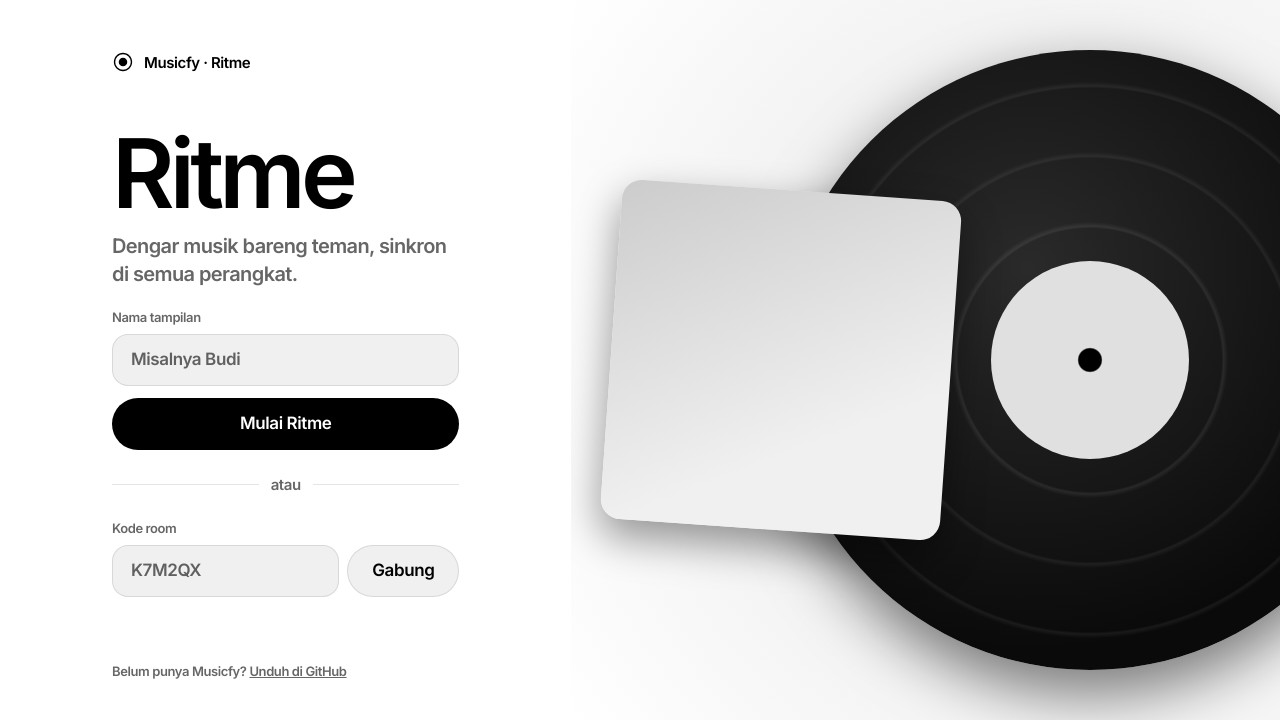
Test: App connection states › shows the connecting screen without a code while creating
This screenshot has width=1280, height=720.
Type "Budi" into the field labelled "Nama tampilan" at (286, 360), box 112,334 -> 459,386
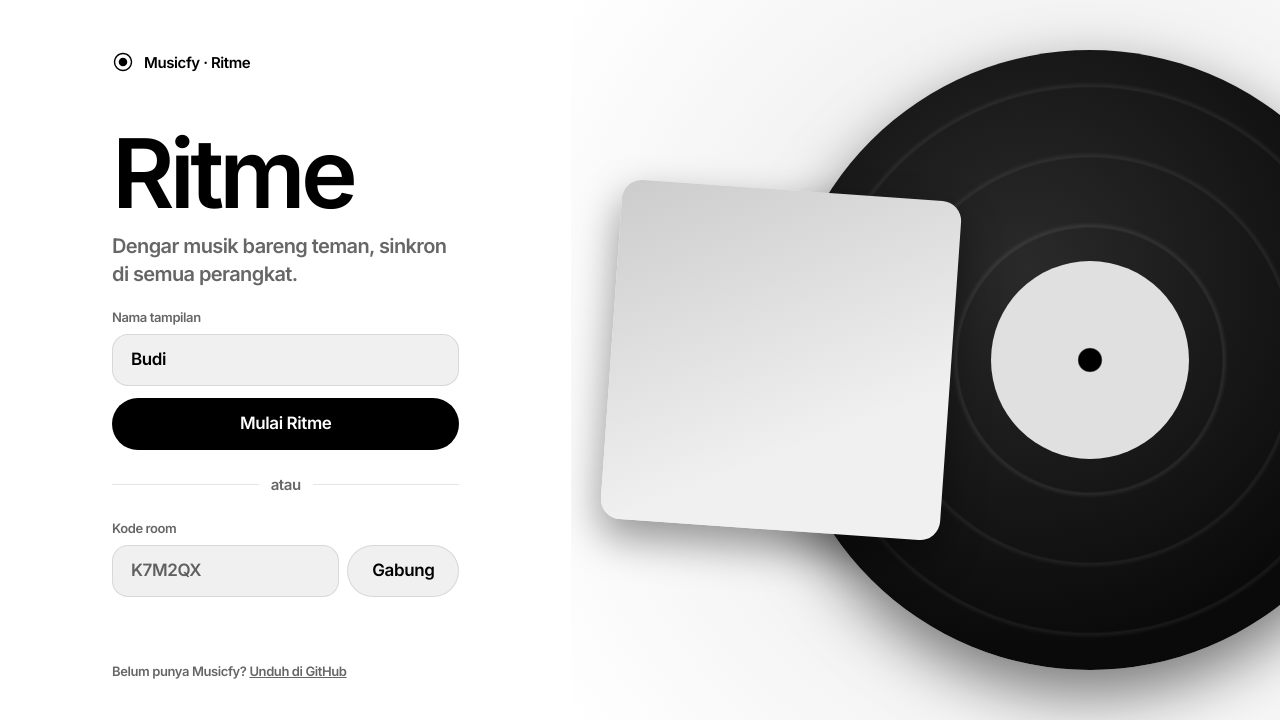
Click the button "Mulai Ritme" at (286, 424), box 112,398 -> 459,450
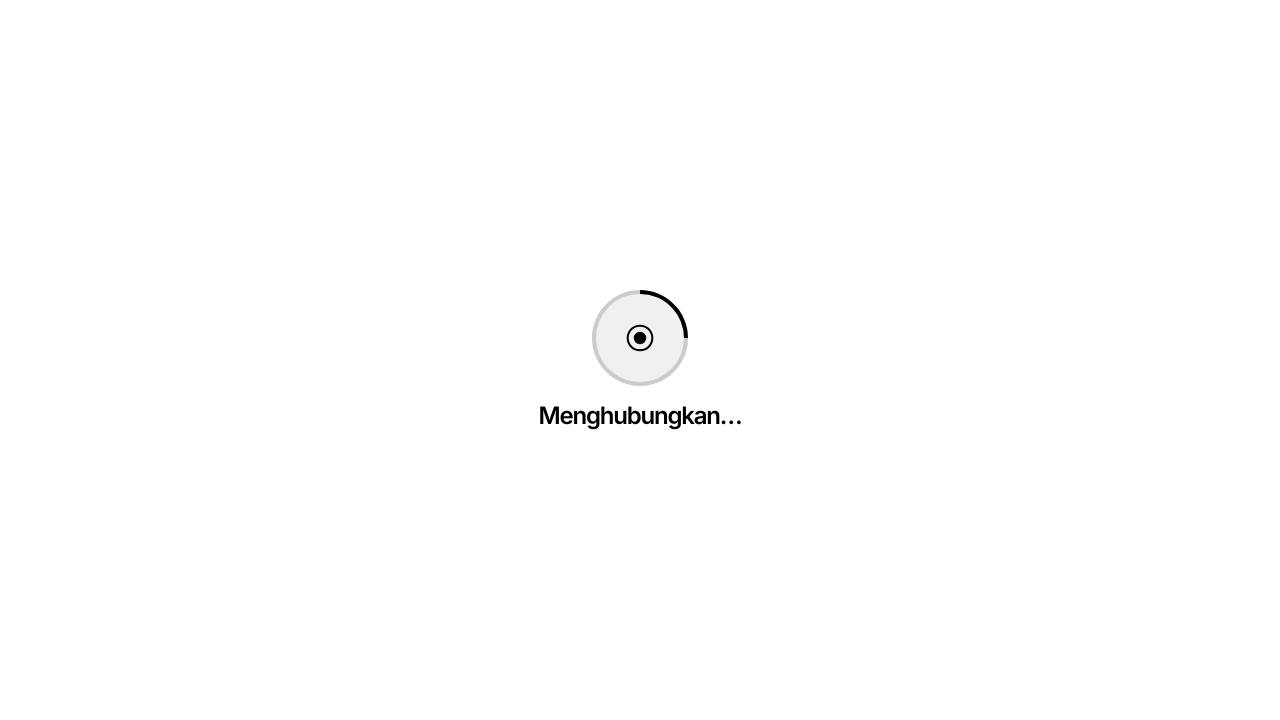
Expected: the text "Room " is not shown
Expected: the heading reads "Menghubungkan…", 538,401 -> 742,430
